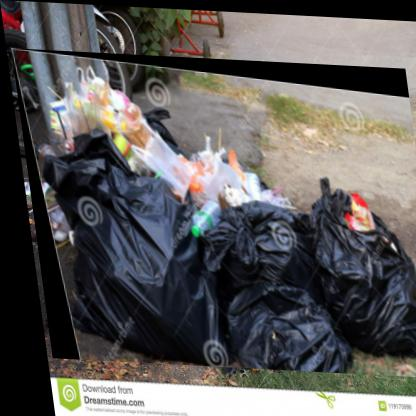Garbage: (11, 49, 416, 377)
